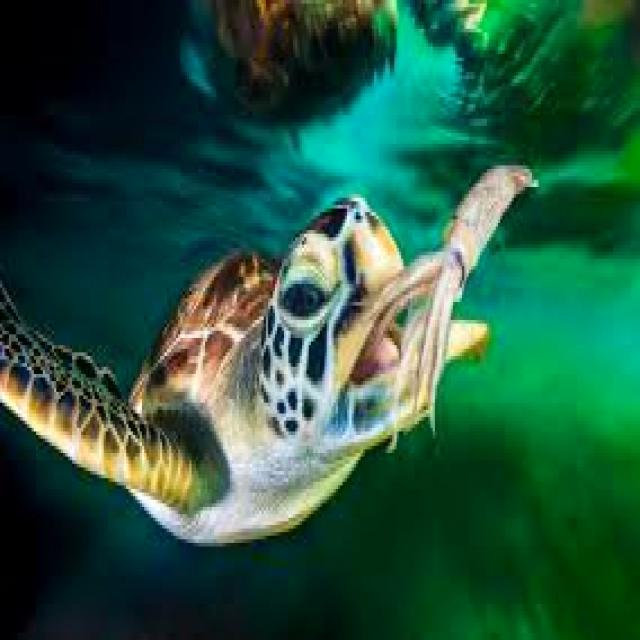turtle: (0, 198, 435, 539), (446, 320, 487, 356)
